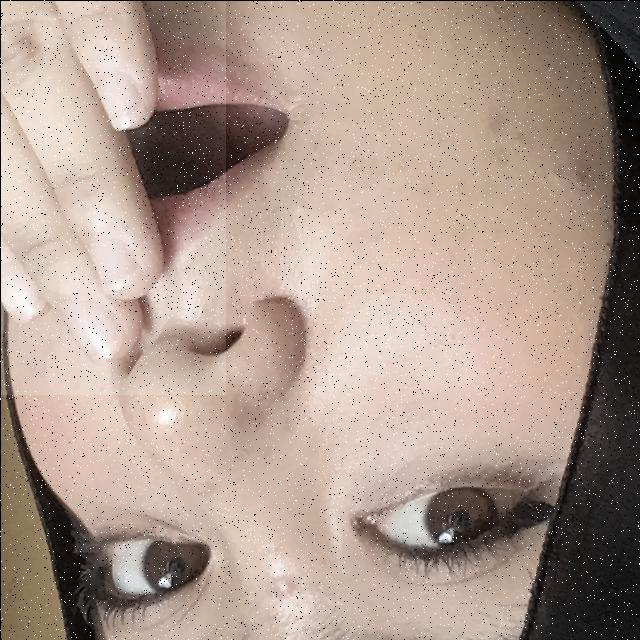ngantuk: (0, 0, 225, 394)
